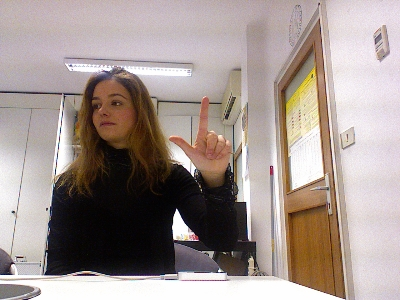枪: (166, 94, 233, 176)
